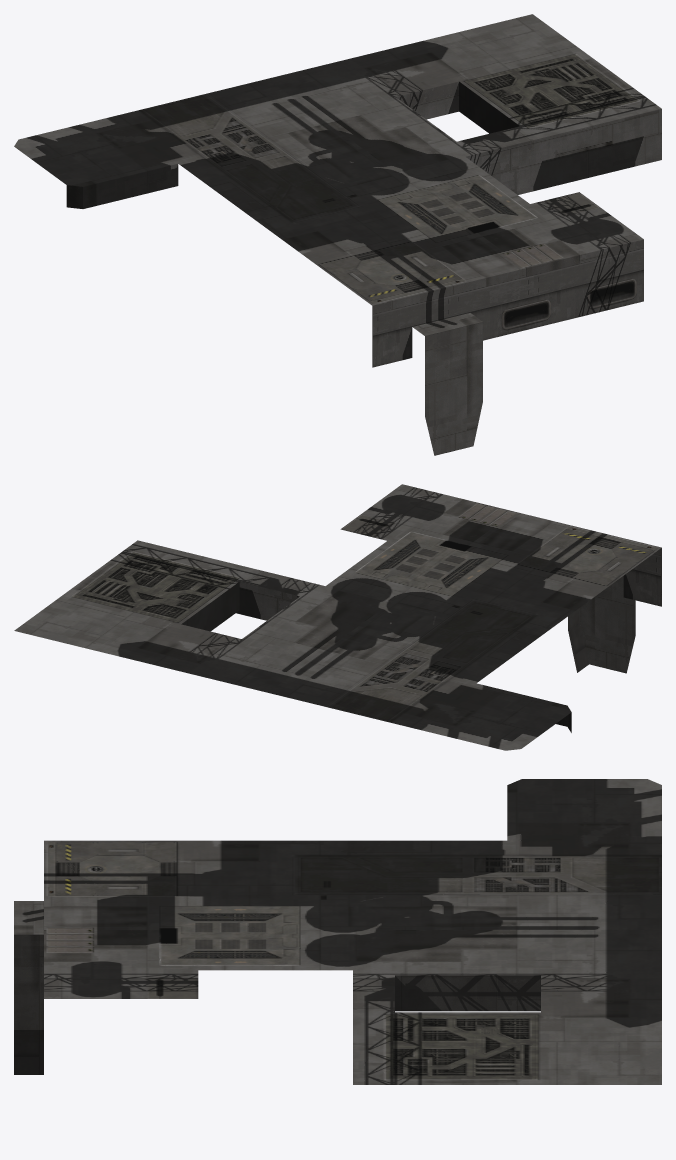
The model's file is ML2_Ground_A.FBX.
3 views of the same model, one above another, from view 1: azimuth 30°, elevation 25°; view 2: azimuth 150°, elevation 25°; view 3: azimuth 270°, elevation 25° (orthographic). The views are drawn at different scales.
Visible parts, largest first — view 1: ML2_Ground_A; view 2: ML2_Ground_A; view 3: ML2_Ground_A.
Boxes of the visible parts, x1,y1,x2,y2 form: ML2_Ground_A: [14, 14, 661, 455]; ML2_Ground_A: [14, 484, 661, 750]; ML2_Ground_A: [14, 779, 661, 1084].
Size of the model in its own units: 50.18 by 13.99 by 44.93.
1 material, 1 textured.
